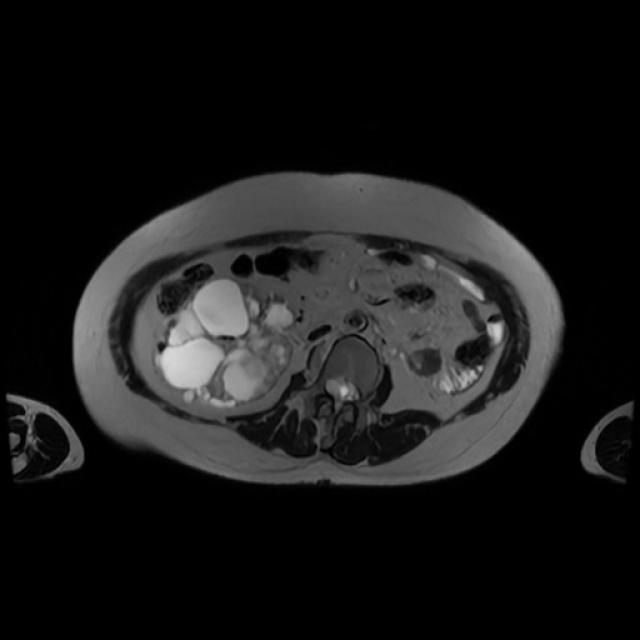sag: (150, 275, 301, 410)
